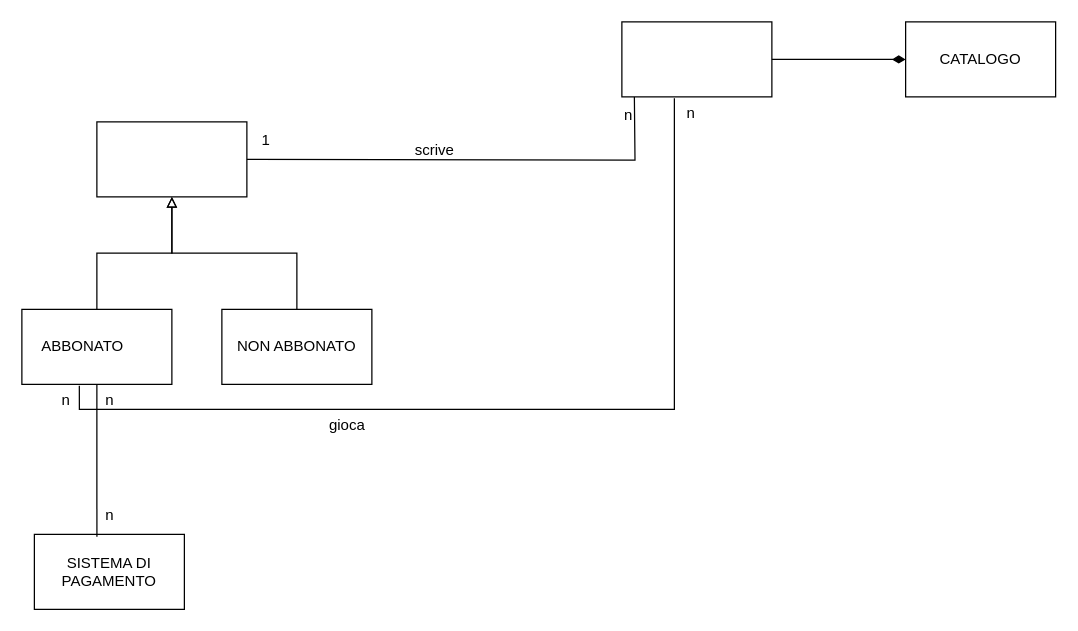
This 1078x631 diagram has some shape labels left out. Each missing label, with the box of its shape:
STORIA: (621, 21, 772, 97)
UTENTE: (96, 121, 247, 197)
